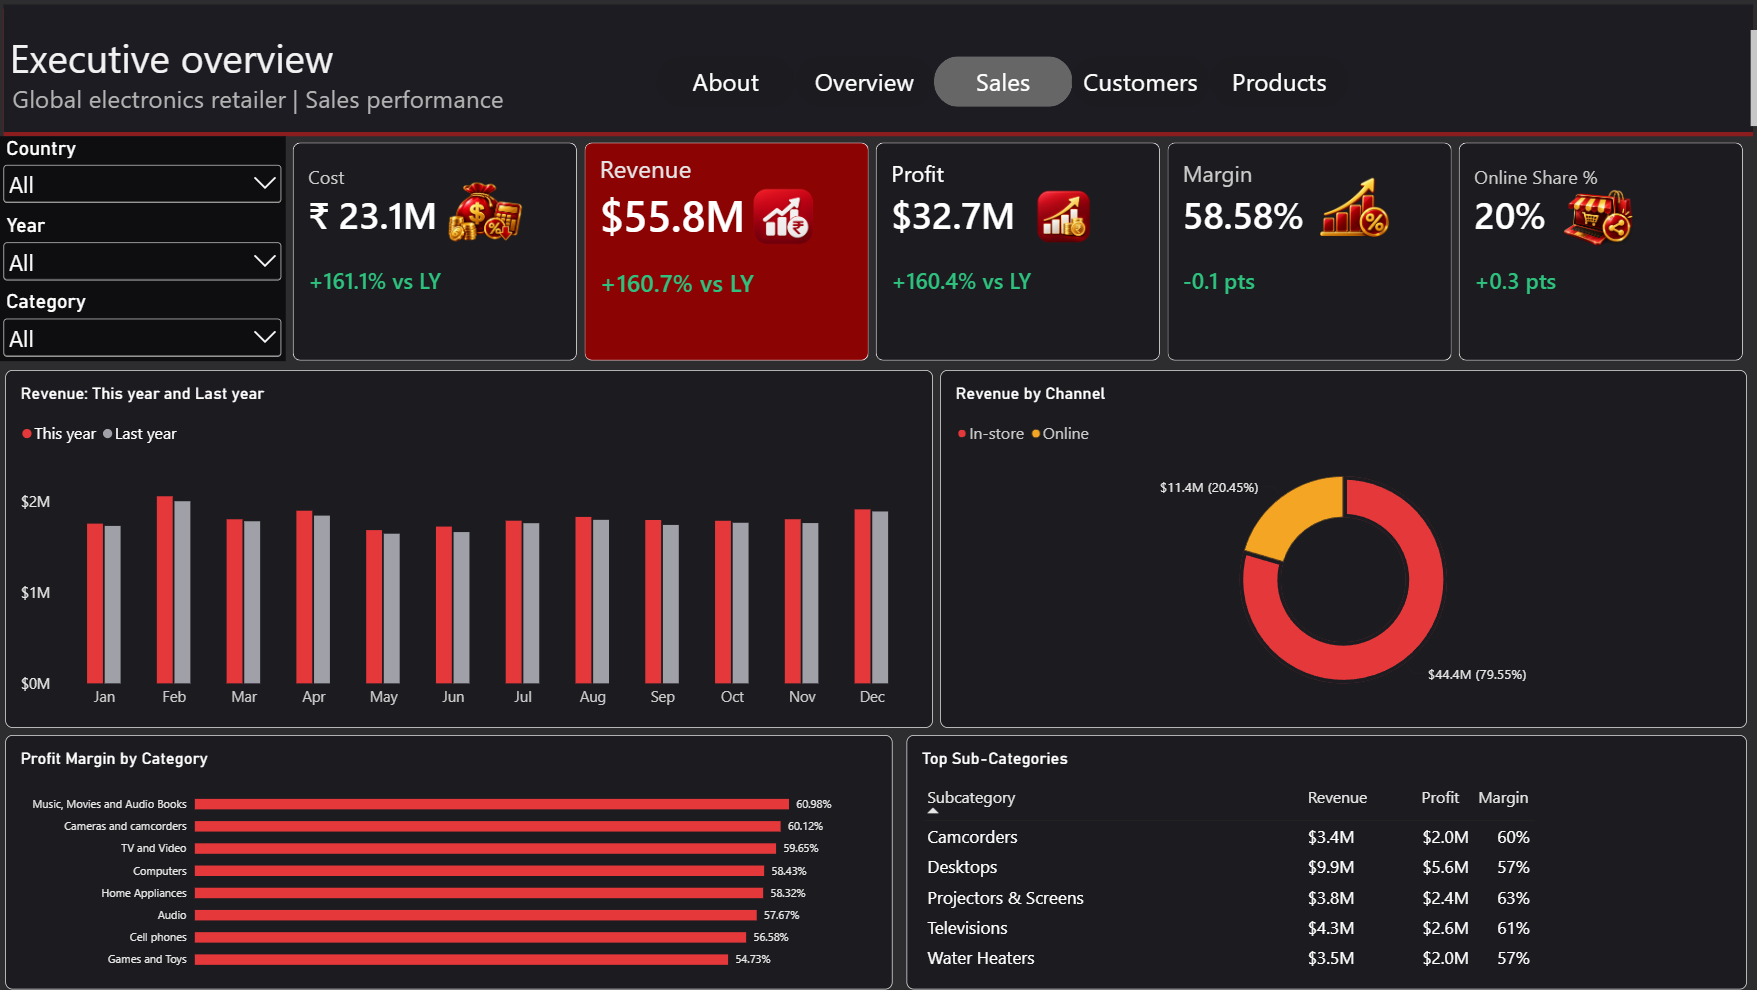

The dashboard page shown, as its layout file describes it:
{"tool":"powerbi","page":{"name":"Sales","canvas":[1920,1080],"ordinal":2},"visuals":[{"type":"shape","box":[0,0,1919.6,149.1],"z":0},{"type":"textbox","box":[0,33.1,1919.6,116],"z":1000},{"type":"actionButton","box":[717.8,60.7,150.9,55.2],"z":2000},{"type":"actionButton","box":[868.7,60.7,150.9,55.2],"z":3000},{"type":"actionButton","box":[1019.6,60.7,150.9,55.2],"z":4000},{"type":"actionButton","box":[1170.6,60.7,150.9,55.2],"z":5000},{"type":"actionButton","box":[1321.5,60.7,150.9,55.2],"z":6000},{"type":"slicer","fields":{"Values":["Customers.Country"]},"box":[0,149.1,312.9,84.7],"z":8000},{"type":"slicer","title":"Year","fields":{"Values":["Dim_Date.Year"]},"box":[0,233.7,312.9,82.8],"z":9000},{"type":"slicer","fields":{"Values":["Products.Category"]},"box":[0,316.6,312.9,77.3],"z":10000},{"type":"cardVisual","fields":{"Data":["Sales.Total Cost","Sales.Total Revenue","Sales.Total Profit","Sales.Profit Margin %","Sales.Online Share %"]},"box":[321,156,1586,238],"z":11000},{"type":"clusteredColumnChart","title":"Revenue: This year and Last year","fields":{"Category":["Dim_Date.Month"],"Y":["Sales.Total Revenue","Sales.Revenue LY"]},"box":[7.4,403.1,1012.3,390.2],"z":12000},{"type":"donutChart","title":"Revenue by Channel","fields":{"Category":["Sales.Channel"],"Y":["Sales.Total Revenue"]},"box":[1027,403.1,879.8,390.2],"z":13000},{"type":"barChart","title":"Profit Margin by Category","fields":{"Category":["Products.Category"],"Y":["Sales.Profit Margin %"]},"box":[7.4,802.5,968.1,277.9],"z":14000},{"type":"tableEx","title":"Top Sub-Categories","fields":{"Values":["Products.Subcategory","Sales.Total Revenue","Sales.Total Profit","Sales.Profit Margin %"]},"box":[990.2,802.5,916.6,277.9],"z":15000},{"type":"image","box":[806.1,198.8,99.4,73.6],"z":16000},{"type":"image","box":[1111.7,201.1,99.4,71.8],"z":17000},{"type":"image","box":[1428.2,191.4,99.4,73.6],"z":18000},{"type":"image","box":[478.5,194.6,99.4,73.6],"z":19000},{"type":"image","box":[1696.9,202.5,99.4,73.6],"z":20000}]}

Visuals, with their boxes in screenshot pixels (x1, y1, x2, y2), scaled from the page's 1920x1080 canvas onto the 1757x990 screenshot:
shape: (x1=0, y1=0, x2=1756, y2=137)
textbox: (x1=0, y1=30, x2=1756, y2=137)
actionButton: (x1=657, y1=56, x2=795, y2=106)
actionButton: (x1=795, y1=56, x2=933, y2=106)
actionButton: (x1=933, y1=56, x2=1071, y2=106)
actionButton: (x1=1071, y1=56, x2=1209, y2=106)
actionButton: (x1=1209, y1=56, x2=1347, y2=106)
slicer - Customers.Country: (x1=0, y1=137, x2=286, y2=214)
"Year" slicer: (x1=0, y1=214, x2=286, y2=290)
slicer - Products.Category: (x1=0, y1=290, x2=286, y2=361)
cardVisual - Sales.Total Cost x Sales.Total Revenue: (x1=294, y1=143, x2=1745, y2=361)
"Revenue: This year and Last year" clusteredColumnChart: (x1=7, y1=370, x2=933, y2=727)
"Revenue by Channel" donutChart: (x1=940, y1=370, x2=1745, y2=727)
"Profit Margin by Category" barChart: (x1=7, y1=736, x2=893, y2=989)
"Top Sub-Categories" tableEx: (x1=906, y1=736, x2=1745, y2=989)
image: (x1=738, y1=182, x2=829, y2=250)
image: (x1=1017, y1=184, x2=1108, y2=250)
image: (x1=1307, y1=175, x2=1398, y2=243)
image: (x1=438, y1=178, x2=529, y2=246)
image: (x1=1553, y1=186, x2=1644, y2=253)
